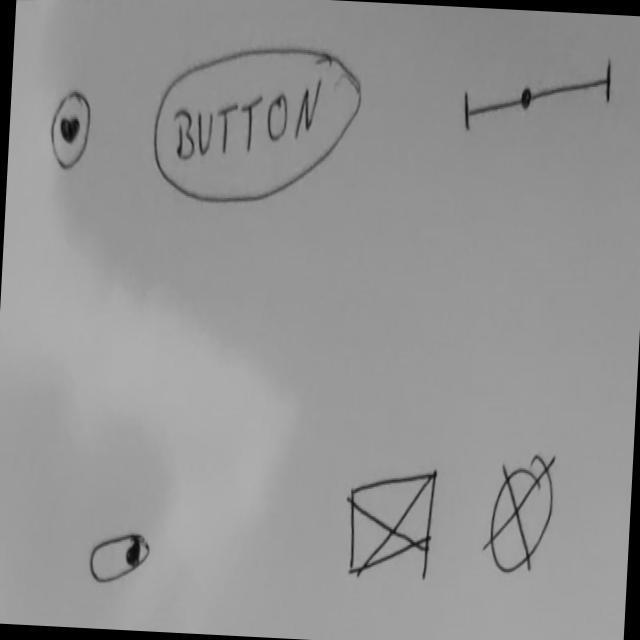button: (148, 38, 367, 215)
icon-button: (49, 88, 95, 176)
image: (344, 462, 439, 587), (481, 449, 560, 580)
slider: (461, 48, 617, 141)
toggle: (88, 530, 153, 595)
